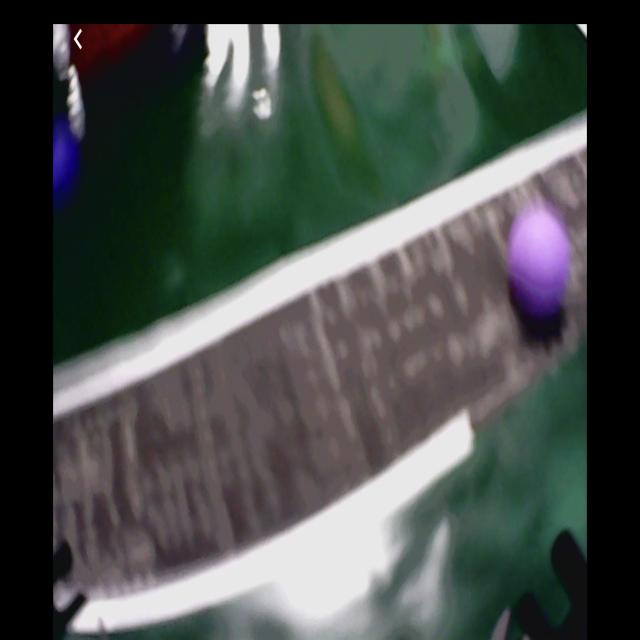ball: (507, 213, 570, 316), (55, 121, 79, 203)
